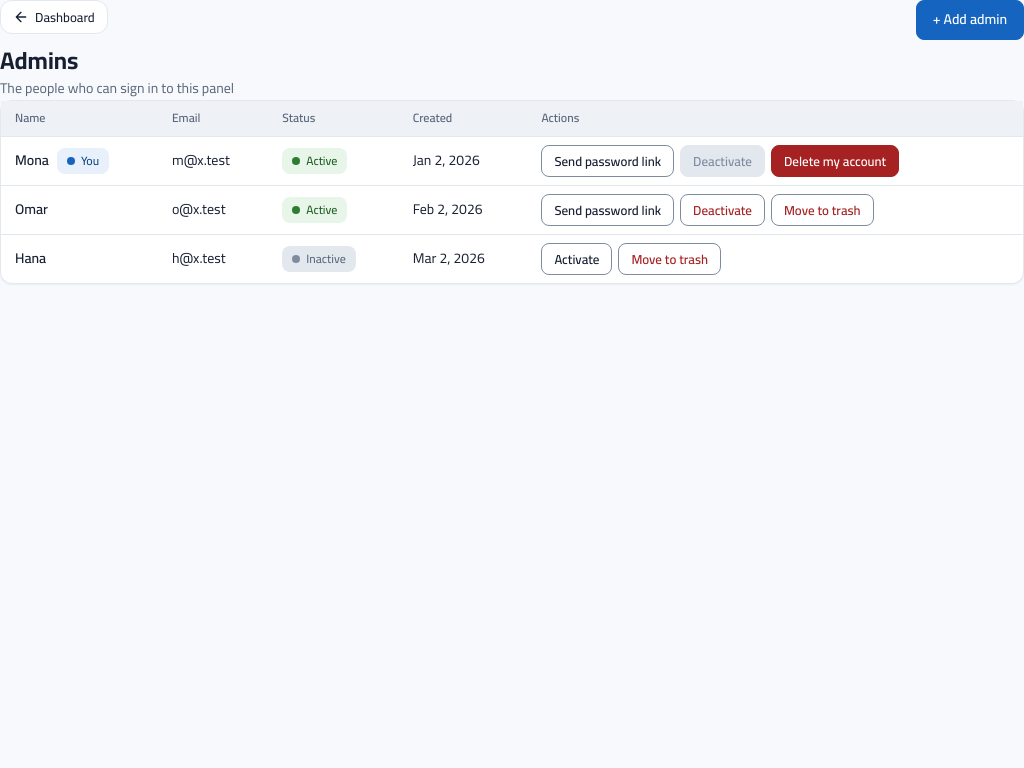
Scenario: the admins page › moves another admin to the trash only after asking, and says it can be restored
Click the button "Move to trash" in the row of "Omar" at (822, 210), box [771,194,874,226]
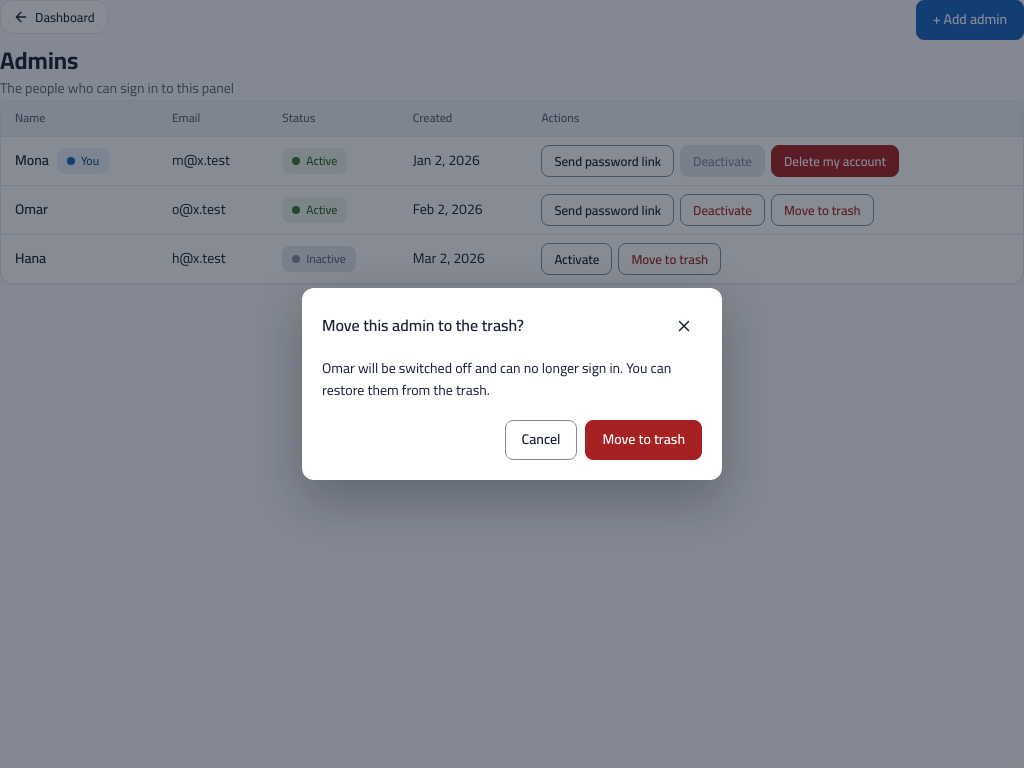
expect the dialog shows "Omar": met, box [322,355,671,403]
Click the button "Move to trash" at (644, 440), box [585,420,702,460]
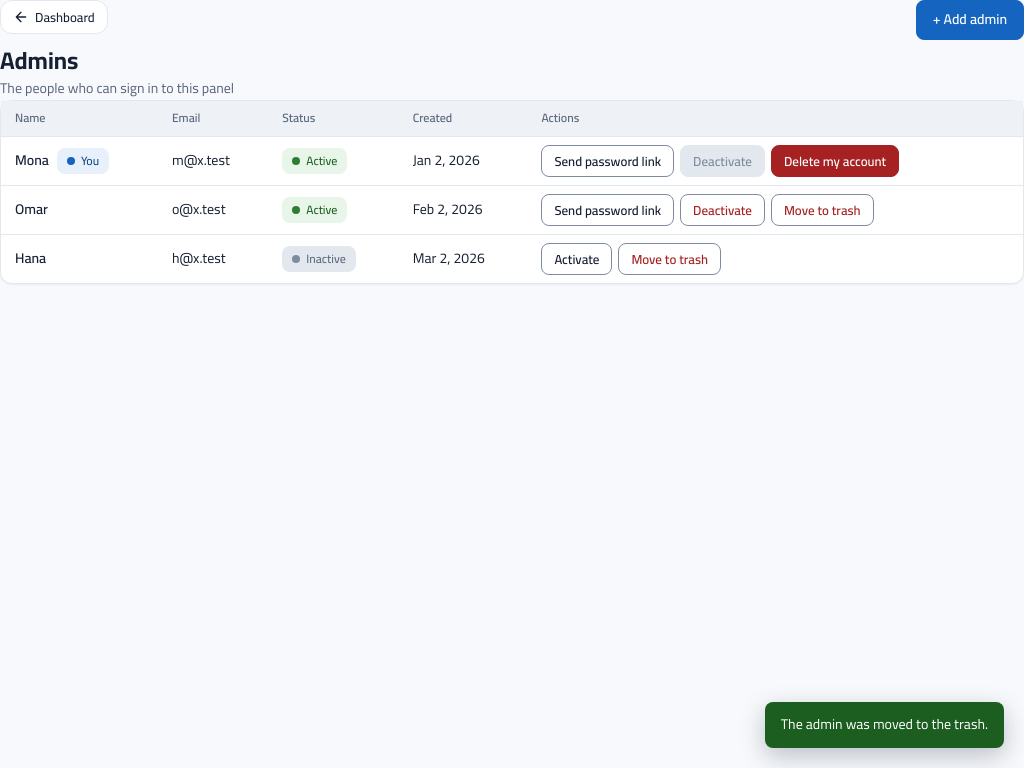
expect the text "The admin was moved to the trash." is shown: met, box [765,702,1004,748]
